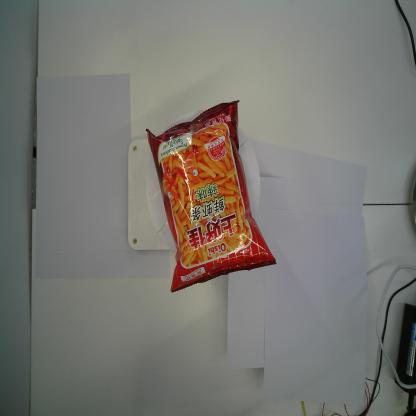Puffed Food: (144, 99, 277, 294)
